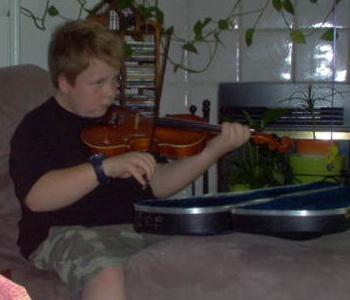person: (8, 19, 251, 299)
